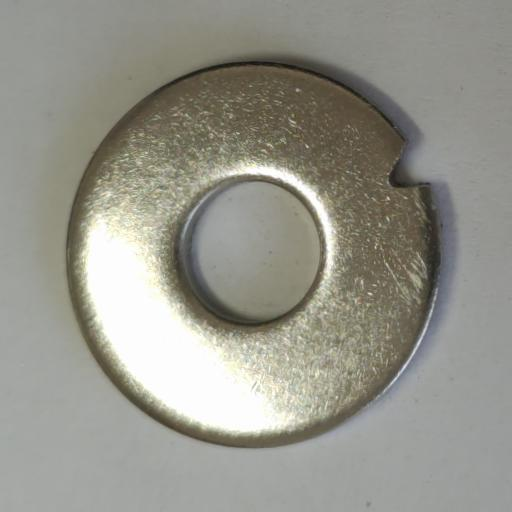burr: (386, 138, 432, 189)
